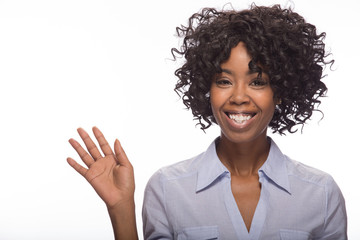open_hand: (56, 114, 146, 208)
